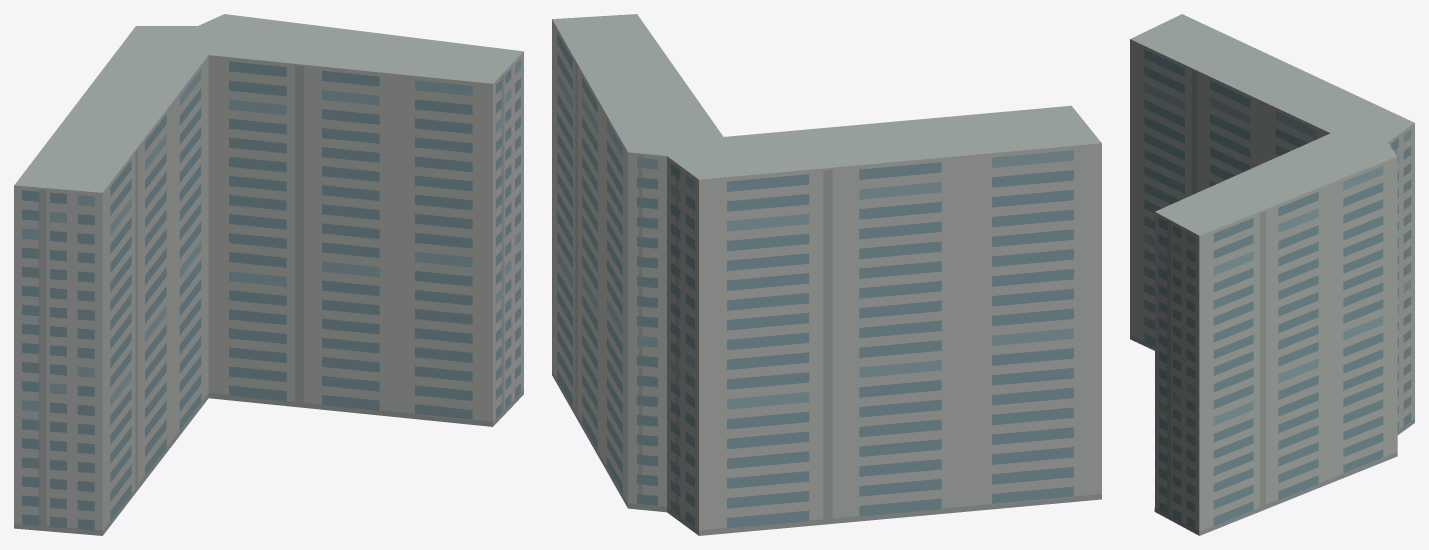
File: residential-be12172c-8ef7-4601-b27d-d128c8bda420.glb
3 views of the same model, side by side, from view 1: azimuth 30°, elevation 25°; view 2: azimuth 150°, elevation 25°; view 3: azimuth 270°, elevation 25° (orthographic). The views are drawn at different scales.
Parts seen in each view (by area): view 1: residential-be12172c-8ef7-4601-b27d-d128c8bda420.tmp; view 2: residential-be12172c-8ef7-4601-b27d-d128c8bda420.tmp; view 3: residential-be12172c-8ef7-4601-b27d-d128c8bda420.tmp.
Part boxes in pixels (x1=…): residential-be12172c-8ef7-4601-b27d-d128c8bda420.tmp: x1=14, y1=14, x2=523, y2=535; residential-be12172c-8ef7-4601-b27d-d128c8bda420.tmp: x1=552, y1=14, x2=1101, y2=535; residential-be12172c-8ef7-4601-b27d-d128c8bda420.tmp: x1=1130, y1=14, x2=1414, y2=535.
Bounding box in the file's own units: 76.08 × 48 × 41.28.
